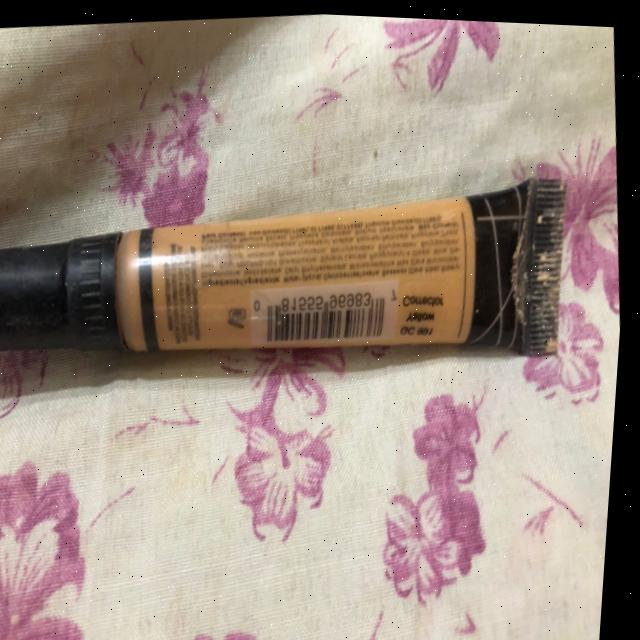bb cream: (0, 125, 611, 454)
